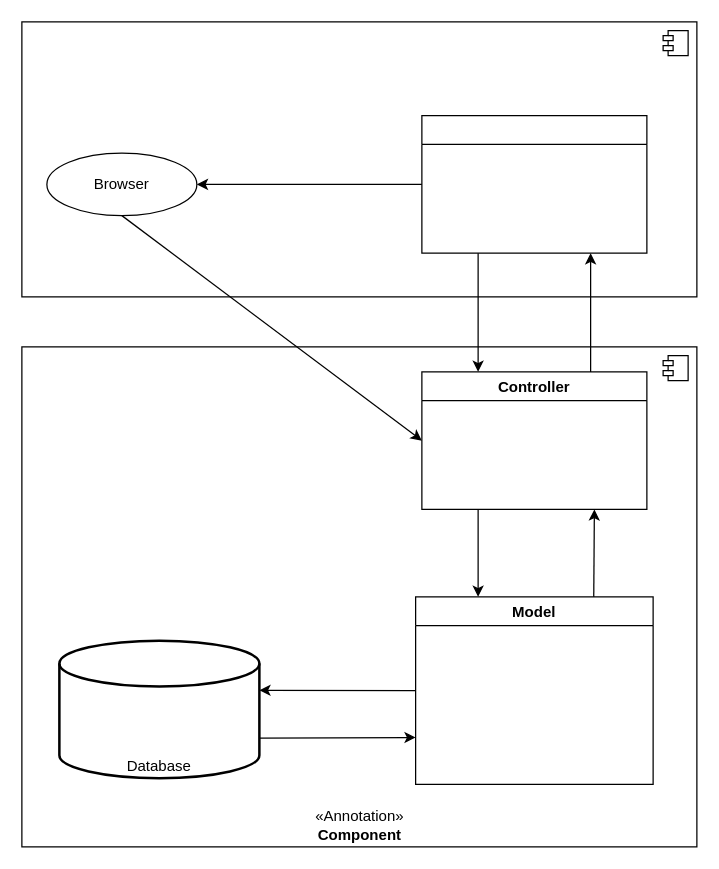
This 719x869 diagram has some shape labels left out. Here are the shapes that lost their labels. From the top down, the box of each, then its label:
(21, 21, 697, 297): «System» Client
(421, 114, 647, 253): View
